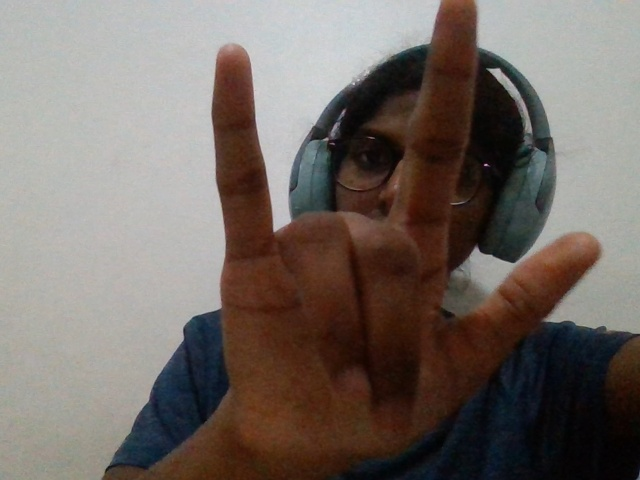I Love You: (157, 5, 611, 480)
